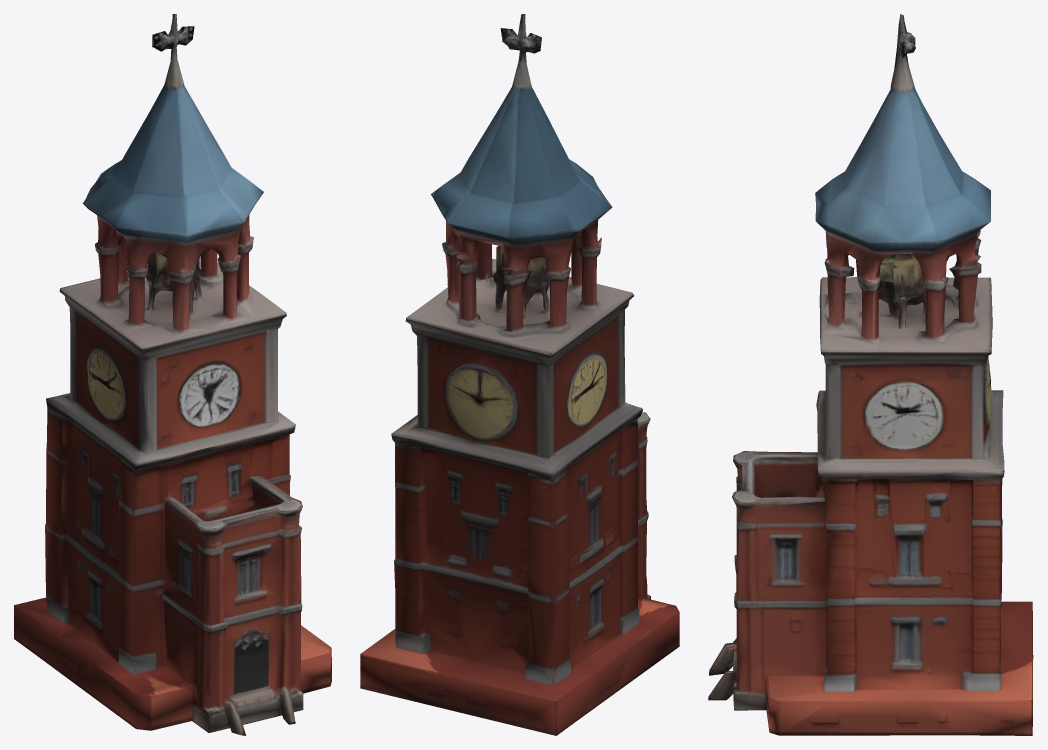
Rendered from clock_tower.glb.
The picture shows the model from 3 angles, left to right: view 1: azimuth 30°, elevation 25°; view 2: azimuth 150°, elevation 25°; view 3: azimuth 270°, elevation 25°; orthographic projection. The views are drawn at different scales.
Visible parts, largest first — view 1: world; view 2: world; view 3: world.
Part boxes in pixels (box(x1,y1,x2,y2)): world: box(14, 14, 331, 735); world: box(360, 14, 679, 735); world: box(708, 14, 1033, 735).
Bounding box in the file's own units: 0.3191 × 1 × 0.4396.
Materials: 1 (1 with a texture image).
